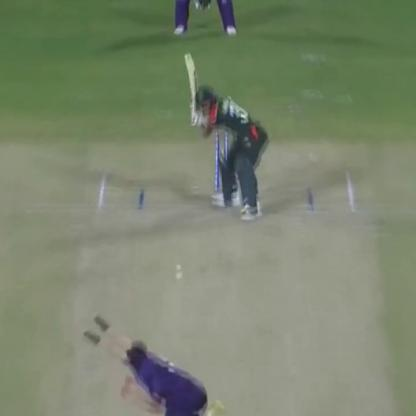ball: (168, 262, 186, 277), (173, 270, 185, 288)
bat: (175, 44, 207, 130)
pitch: (76, 167, 384, 414)
